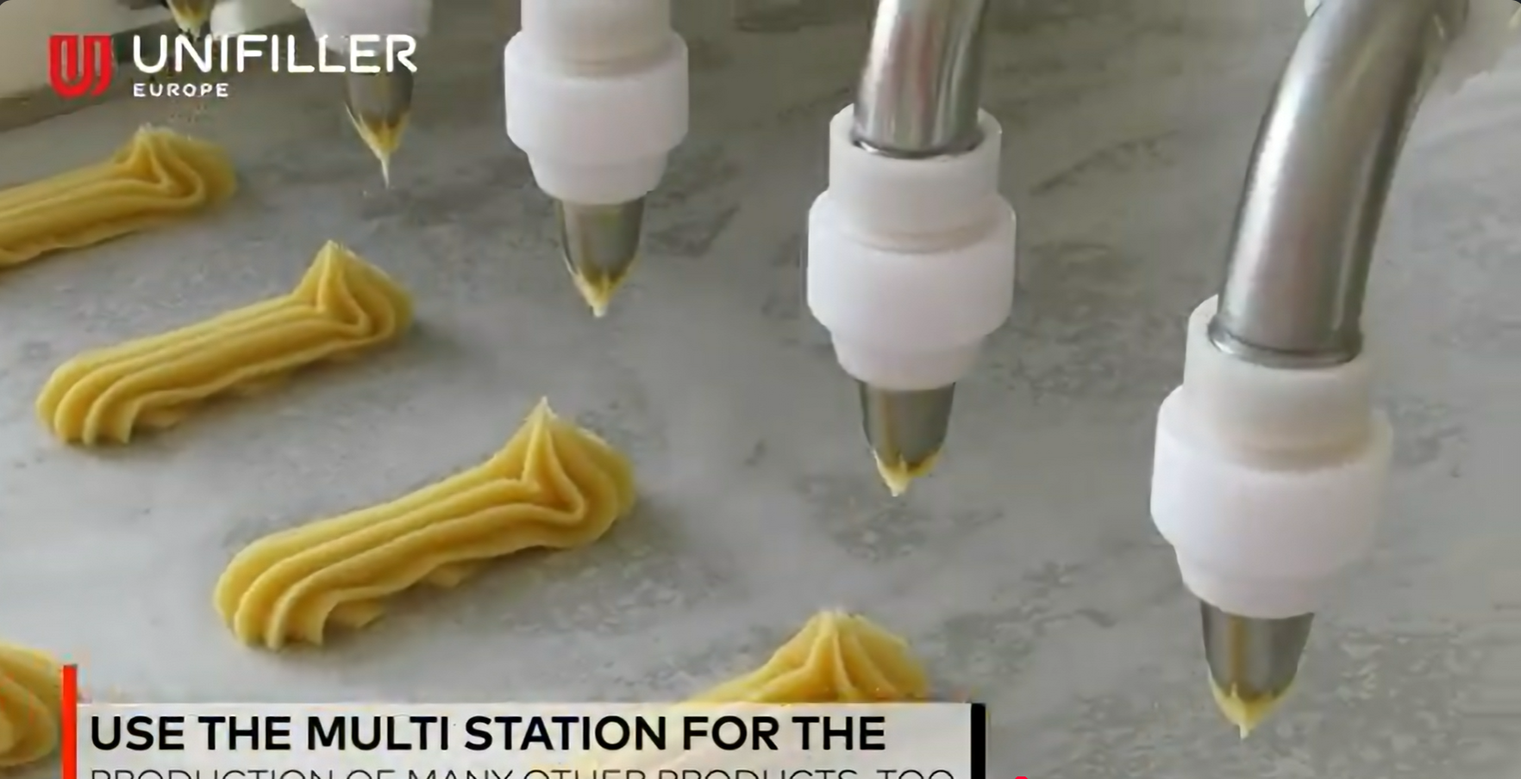Vermicelli: (218, 401, 642, 654), (40, 240, 410, 440), (0, 115, 237, 275), (678, 600, 899, 707)
